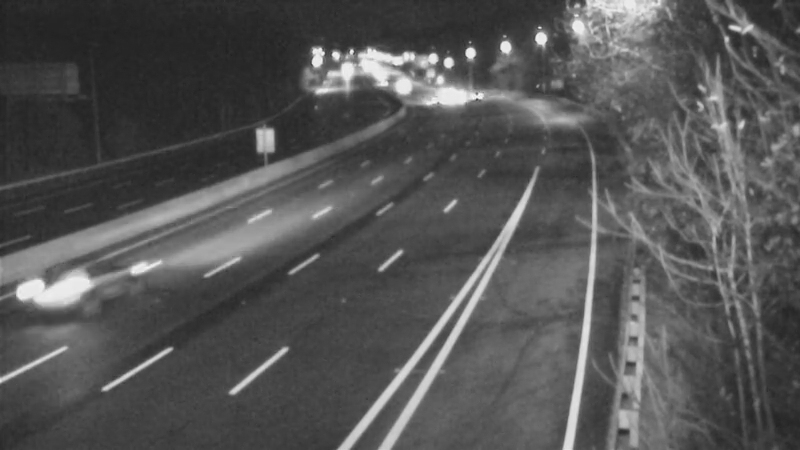vehicle: (23, 243, 103, 323), (377, 63, 427, 113), (422, 73, 472, 123), (455, 69, 505, 119), (406, 72, 456, 122)
